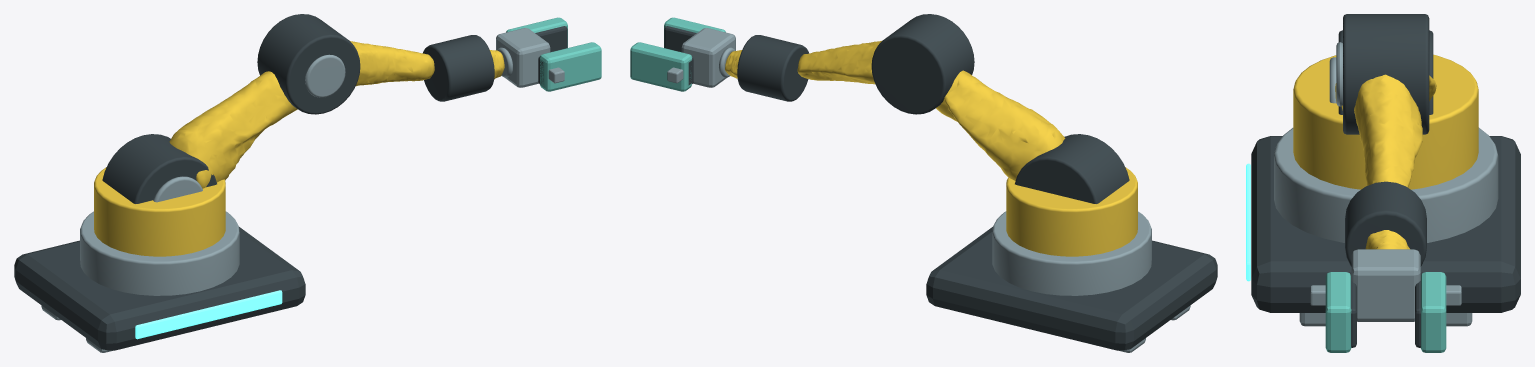
File: robot.glb
3 views of the same model, side by side, from view 1: azimuth 30°, elevation 25°; view 2: azimuth 150°, elevation 25°; view 3: azimuth 270°, elevation 25° (orthographic). The views are drawn at different scales.
Parts seen in each view (by area): view 1: rail-carriage, rotary-waist, turntable, comfy-upper-shell, J3-hinge, J2-hinge, J4-wrist, comfy-fore-shell, protect-jaw, arm-id-band, protect-adapter, elbow-access (+3 smaller); view 2: rail-carriage, rotary-waist, J3-hinge, turntable, comfy-upper-shell, J2-hinge, J4-wrist, comfy-fore-shell, protect-jaw.001, protect-adapter, rough-jaw, protect-jaw; view 3: rail-carriage, rotary-waist, turntable, J3-hinge, comfy-fore-shell, protect-adapter, J4-wrist, protect-jaw.001, protect-jaw, rough-adapter, comfy-wrist-shell, protect-finger-slide (+8 smaller).
Boxes of the visible parts, x1,y1,x2,y2 form: rail-carriage: (14,227,305,350); rotary-waist: (94,167,225,256); turntable: (80,211,239,295); comfy-upper-shell: (169,71,297,188); J3-hinge: (257,14,360,114); J2-hinge: (102,134,216,203); J4-wrist: (423,35,494,101); comfy-fore-shell: (350,41,434,86); protect-jaw: (539,42,601,91); arm-id-band: (135,290,282,339); protect-adapter: (496,28,550,87); elbow-access: (305,54,345,97); rail-carriage: (926,227,1217,350); rotary-waist: (1006,167,1137,256); J3-hinge: (871,14,974,114); turntable: (992,211,1151,295); comfy-upper-shell: (936,70,1065,180); J2-hinge: (1015,134,1129,203); J4-wrist: (737,35,809,101); comfy-fore-shell: (797,41,881,84); protect-jaw.001: (630,42,692,91); protect-adapter: (681,28,735,87); rough-jaw: (664,26,696,52); protect-jaw: (664,17,725,47); rail-carriage: (1251,136,1520,312); rotary-waist: (1293,54,1478,189); turntable: (1274,127,1498,242); J3-hinge: (1343,14,1429,134); comfy-fore-shell: (1354,74,1422,187); protect-adapter: (1351,249,1420,321); J4-wrist: (1345,181,1426,266); protect-jaw.001: (1420,272,1446,352); protect-jaw: (1325,272,1351,352); rough-adapter: (1360,249,1411,321); comfy-wrist-shell: (1365,230,1409,249); protect-finger-slide: (1310,285,1461,305).
Size of the model in its own units: 3.95 by 1.79 by 1.27.
